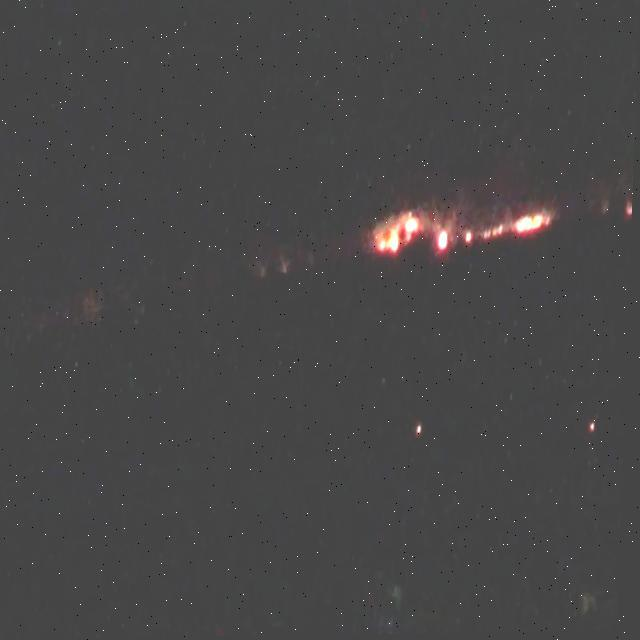Fire: (466, 212, 552, 242), (376, 216, 419, 254)
